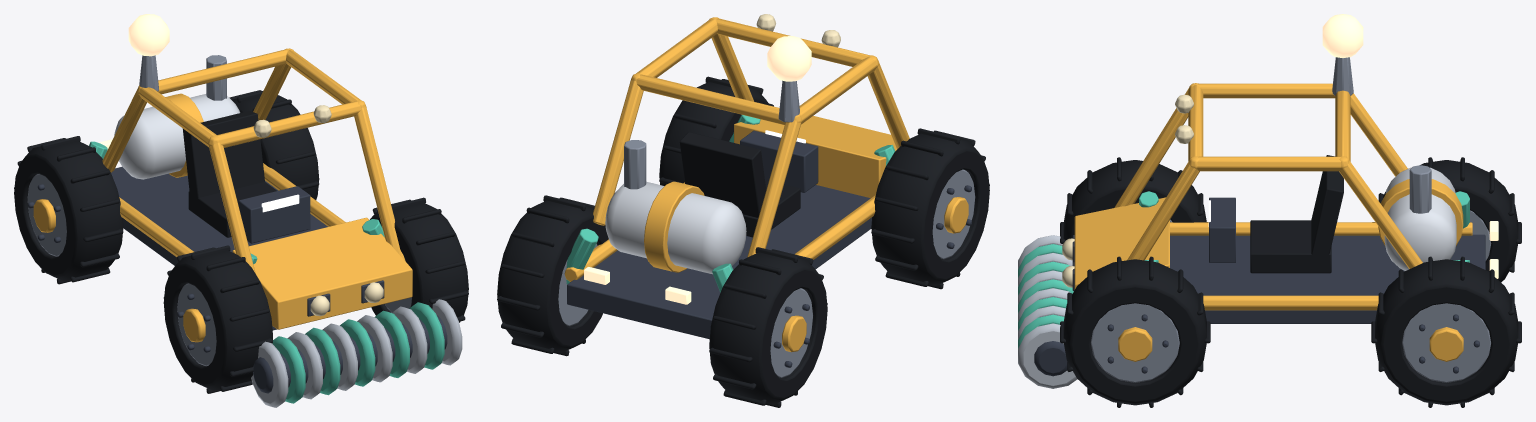
The model's file is buggy.fbx.
3 views of the same model, side by side, from view 1: azimuth 30°, elevation 25°; view 2: azimuth 150°, elevation 25°; view 3: azimuth 270°, elevation 25° (orthographic). The views are drawn at different scales.
Parts seen in each view (by area): view 1: buggy_Koerper, buggy, buggy_Werkzeug; view 2: buggy_Koerper, buggy; view 3: buggy_Koerper, buggy, buggy_Werkzeug.
Boxes of the visible parts, bbox=[...] form: buggy_Koerper: bbox=[89, 14, 412, 330]; buggy: bbox=[14, 90, 468, 393]; buggy_Werkzeug: bbox=[251, 299, 462, 407]; buggy_Koerper: bbox=[564, 14, 909, 339]; buggy: bbox=[497, 76, 989, 407]; buggy_Koerper: bbox=[1062, 14, 1498, 323]; buggy: bbox=[1060, 157, 1521, 407]; buggy_Werkzeug: bbox=[1018, 235, 1077, 388].
Size of the model in its own units: 1.34 by 1.47 by 2.24.
